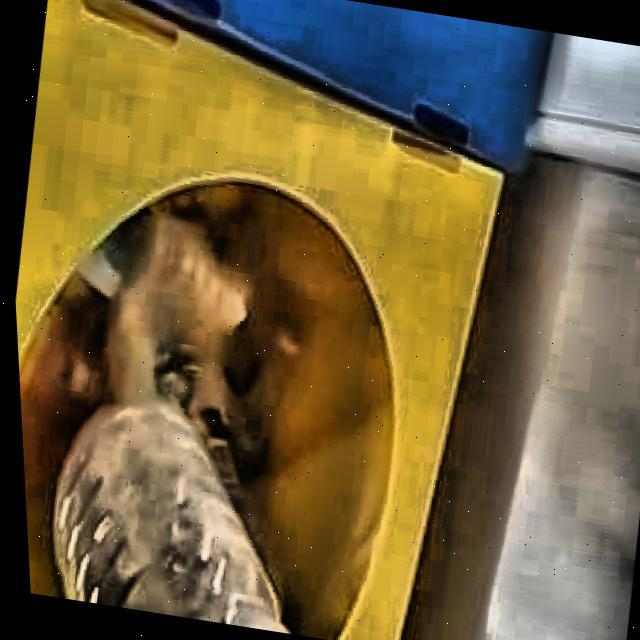plastic: (45, 391, 279, 633)
